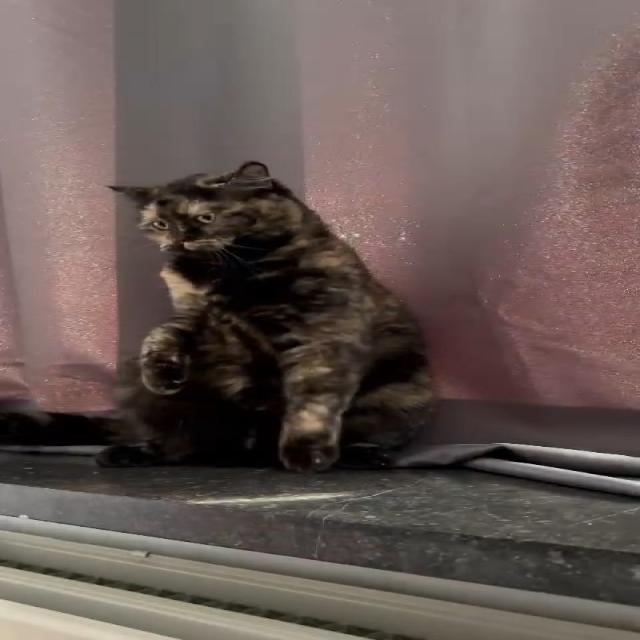authorized: (97, 160, 436, 472)
